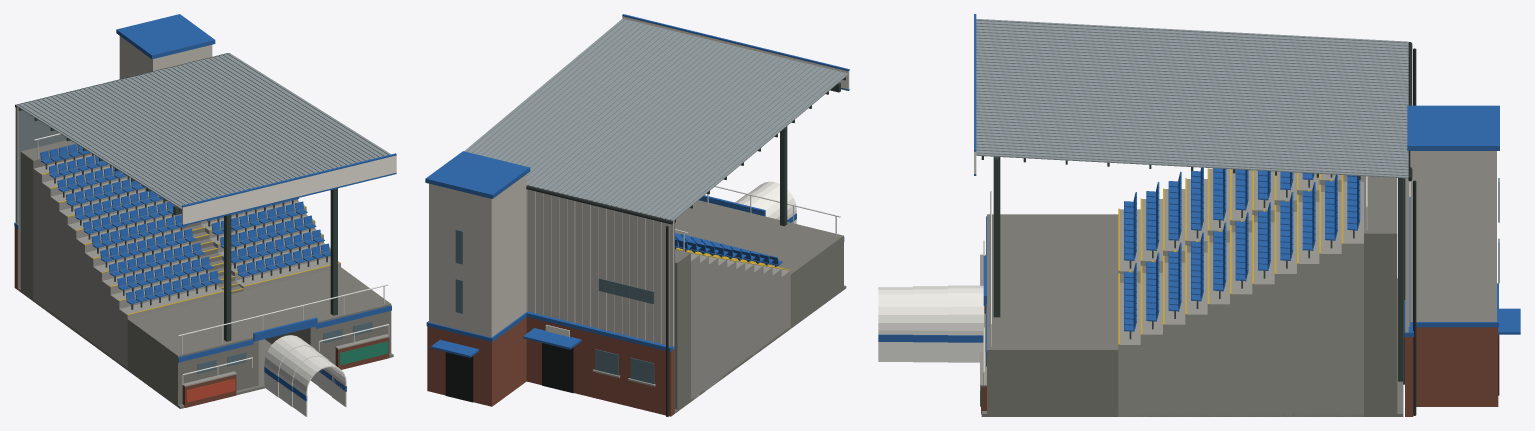
Rendered from main_stand_15_tunnel.glb.
3 views of the same model, side by side, from view 1: azimuth 30°, elevation 25°; view 2: azimuth 150°, elevation 25°; view 3: azimuth 270°, elevation 25° (orthographic). The views are drawn at different scales.
Parts seen in each view (by area): view 1: Main_Corrugated_Sheet, Main_Concrete_Dark, Main_Concrete, Main_Club_Primary_Seats, Main_Club_Primary_Trim, Main_Club_Secondary_Fascia, Main_Tunnel_Canopy, Main_Steel_Frame, Main_Rear_Cladding, Main_Corrugated_Underside, Main_Seat_Bracket, Main_Front_Wall (+6 smaller); view 2: Main_Corrugated_Sheet, Main_Rear_Cladding, Main_Concrete_Dark, Main_Rear_Brick, Main_Concrete, Main_Club_Primary_Trim, Main_Shadow_Gap, Main_Window_Glass, Main_Club_Primary_Seats, Main_Gutter, Main_Tunnel_Canopy, Main_Club_Secondary_Fascia (+2 smaller); view 3: Main_Corrugated_Sheet, Main_Concrete, Main_Concrete_Dark, Main_Rear_Cladding, Main_Club_Primary_Seats, Main_Club_Primary_Trim, Main_Tunnel_Canopy, Main_Rear_Brick, Main_Steel_Frame, Main_Step_Edge_Yellow, Main_Gutter, Main_Corrugated_Underside (+1 smaller).
Part boxes in pixels (<box>): Main_Corrugated_Sheet: <box>16,53,390,209</box>; Main_Concrete_Dark: <box>18,140,393,408</box>; Main_Concrete: <box>33,154,389,386</box>; Main_Club_Primary_Seats: <box>40,144,330,304</box>; Main_Club_Primary_Trim: <box>14,14,396,401</box>; Main_Club_Secondary_Fascia: <box>182,155,396,224</box>; Main_Tunnel_Canopy: <box>264,335,346,416</box>; Main_Steel_Frame: <box>18,108,337,341</box>; Main_Rear_Cladding: <box>16,36,212,224</box>; Main_Corrugated_Underside: <box>17,106,181,288</box>; Main_Seat_Bracket: <box>45,154,327,309</box>; Main_Front_Wall: <box>182,337,389,407</box>; Main_Corrugated_Sheet: <box>464,18,848,220</box>; Main_Rear_Cladding: <box>429,174,674,348</box>; Main_Concrete_Dark: <box>675,200,846,413</box>; Main_Rear_Brick: <box>427,317,674,416</box>; Main_Concrete: <box>592,253,790,399</box>; Main_Club_Primary_Trim: <box>425,14,849,357</box>; Main_Shadow_Gap: <box>445,343,573,402</box>; Main_Window_Glass: <box>455,229,654,383</box>; Main_Club_Primary_Seats: <box>675,233,782,265</box>; Main_Gutter: <box>526,185,672,416</box>; Main_Tunnel_Canopy: <box>735,181,796,223</box>; Main_Club_Secondary_Fascia: <box>545,16,849,336</box>; Main_Corrugated_Sheet: <box>976,19,1408,178</box>; Main_Concrete: <box>980,168,1363,416</box>; Main_Concrete_Dark: <box>981,175,1402,416</box>; Main_Rear_Cladding: <box>1405,151,1496,332</box>; Main_Club_Primary_Seats: <box>1124,167,1360,331</box>; Main_Club_Primary_Trim: <box>878,14,1520,358</box>; Main_Tunnel_Canopy: <box>878,285,984,362</box>; Main_Rear_Brick: <box>1405,327,1498,416</box>; Main_Steel_Frame: <box>981,156,1405,384</box>; Main_Step_Edge_Yellow: <box>1118,168,1343,344</box>; Main_Gutter: <box>1408,42,1416,415</box>; Main_Corrugated_Underside: <box>976,155,1407,416</box>.
Bounding box in the file's own units: 11.52 × 10.56 × 23.02.
